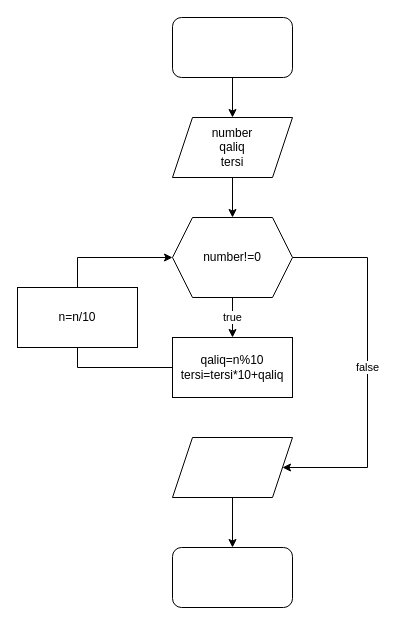
This 396x625 diagram has some shape labels left out. The box of each missing label's shape, as (x1, y1, x2, y2) in pixels:
print(tersi): (172, 436, 292, 498)
start: (172, 16, 292, 78)
